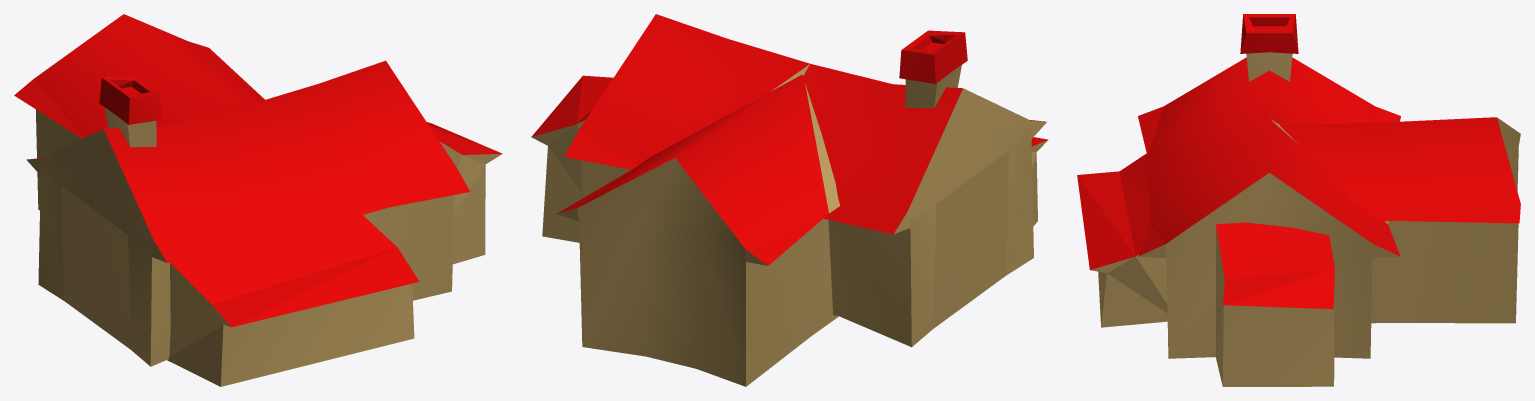
File: Farmhouse03.fbx
The picture shows the model from 3 angles, left to right: view 1: azimuth 30°, elevation 25°; view 2: azimuth 150°, elevation 25°; view 3: azimuth 270°, elevation 25°; orthographic projection. The views are drawn at different scales.
Parts seen in each view (by area): view 1: Farmhouse03; view 2: Farmhouse03; view 3: Farmhouse03.
Boxes of the visible parts, x1,y1,x2,y2 form: Farmhouse03: (14,14,502,386); Farmhouse03: (531,14,1048,386); Farmhouse03: (1077,14,1520,386).
Bounding box in the file's own units: 25.29 × 14.87 × 27.24.
